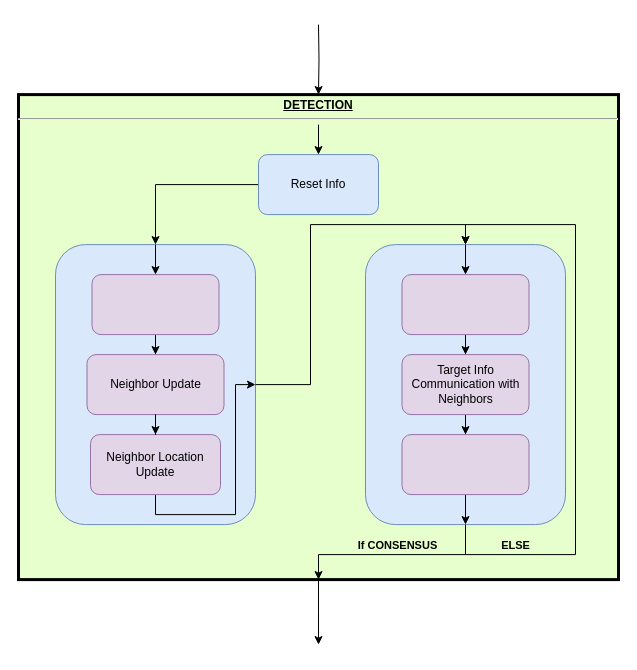
This 637x670 diagram has some shape labels left out. Each missing label, with the box of its shape:
State Update: (91, 274, 219, 335)
Target Info Consensus Algorithm: (401, 434, 529, 495)
Target Observation: (401, 274, 529, 335)
